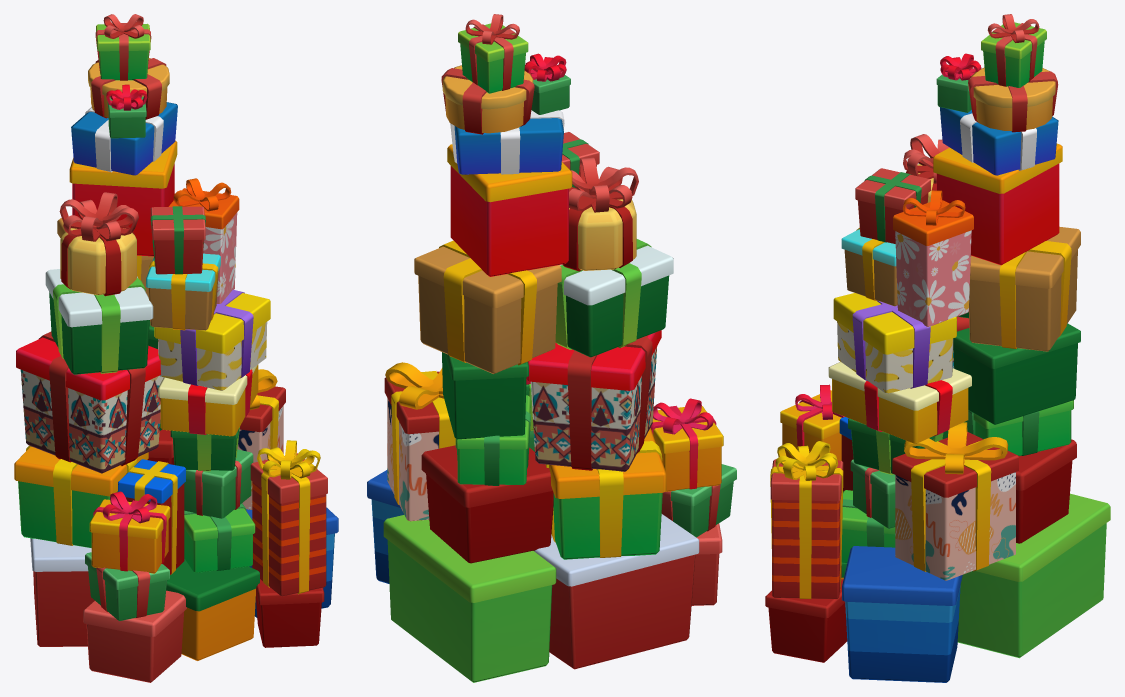
File: giftbox_tower_001.fbx
3 views of the same model, side by side, from view 1: azimuth 30°, elevation 25°; view 2: azimuth 150°, elevation 25°; view 3: azimuth 270°, elevation 25° (orthographic). The views are drawn at different scales.
Visible parts, largest first — view 1: giftbox_tower_001; view 2: giftbox_tower_001; view 3: giftbox_tower_001.
Part boxes in pixels (x1,y1,x2,y2): giftbox_tower_001: [14, 14, 338, 682]; giftbox_tower_001: [367, 14, 736, 682]; giftbox_tower_001: [765, 14, 1110, 682].
Bounding box in the file's own units: 830 × 835 × 1578.
